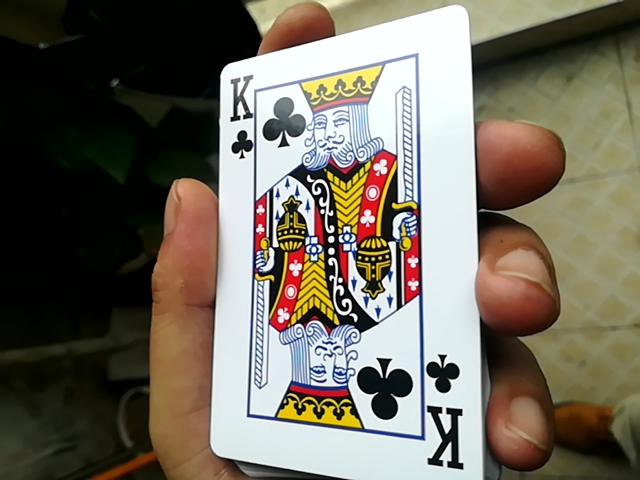mh k: (218, 1, 471, 475)
